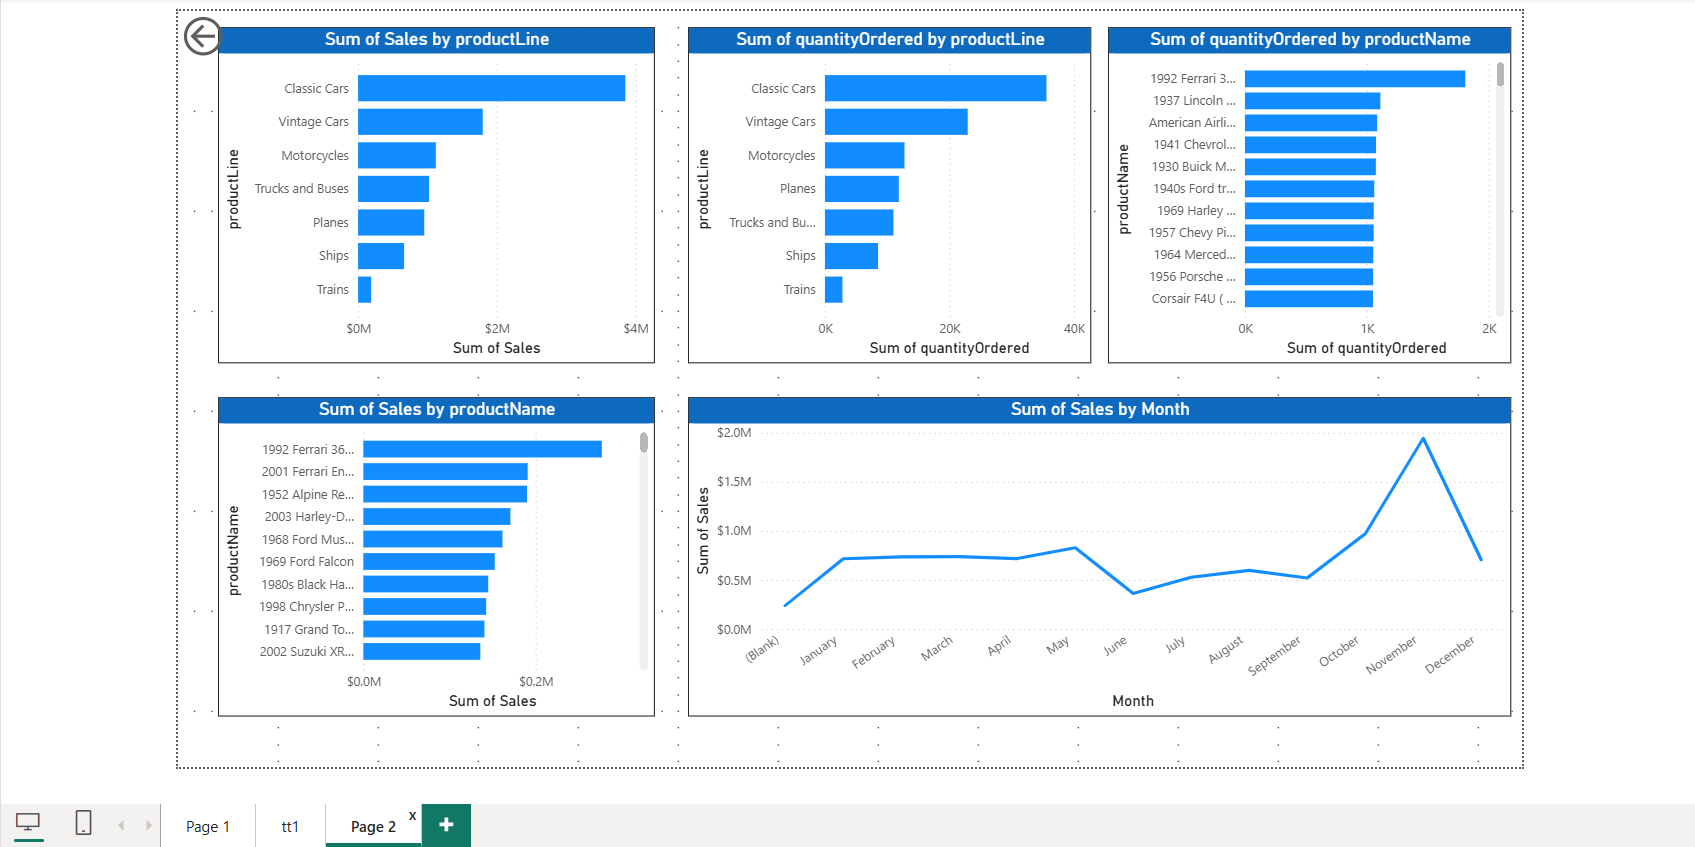

This screenshot's page, from the dashboard's own definition file:
{"tool":"powerbi","page":{"name":"Page 2","canvas":[1280,720],"ordinal":2},"visuals":[{"type":"barChart","fields":{"Y":["Sum(order details.Sales)"],"Category":["productlines.productLine"]},"box":[38.3,16,416,320],"z":0},{"type":"barChart","fields":{"Category":["productlines.productLine"],"Y":["Sum(order details.quantityOrdered)"]},"box":[486.3,16,384,320],"z":1000},{"type":"barChart","fields":{"Y":["Sum(order details.Sales)"],"Category":["products.productName"]},"box":[38.3,368,416,304],"z":2000},{"type":"barChart","fields":{"Y":["Sum(order details.quantityOrdered)"],"Category":["products.productName"]},"box":[886.3,16,384,320],"z":3000},{"type":"lineChart","fields":{"Category":["orders.orderDate.Variation.Date Hierarchy.Year","orders.orderDate.Variation.Date Hierarchy.Quarter","orders.orderDate.Variation.Date Hierarchy.Month","orders.orderDate.Variation.Date Hierarchy.Day"],"Y":["Sum(order details.Sales)"]},"box":[486.3,368,784,304],"z":4000},{"type":"actionButton","box":[0,0,48,48],"z":5000}]}

Visuals, with their boxes on the page's 1280x720 design canvas (x1, y1, x2, y2). These are canvas units, not pixel positions in the 1695x847 screenshot, which may show the page scaled, cropped or inside an application window:
barChart - Sum(order details.Sales) x productlines.productLine: box=[38, 16, 454, 336]
barChart - productlines.productLine x Sum(order details.quantityOrdered): box=[486, 16, 870, 336]
barChart - Sum(order details.Sales) x products.productName: box=[38, 368, 454, 672]
barChart - Sum(order details.quantityOrdered) x products.productName: box=[886, 16, 1270, 336]
lineChart - orders.orderDate.Variation.Date Hierarchy.Year x orders.orderDate.Variation.Date Hierarchy.Quarter: box=[486, 368, 1270, 672]
actionButton: box=[0, 0, 48, 48]
